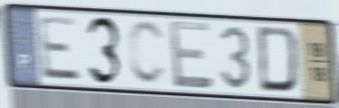3: (82, 14, 124, 88), (215, 23, 253, 92)
C: (127, 18, 170, 88)
D: (256, 24, 301, 97)
E: (167, 17, 216, 91), (36, 14, 84, 84)
